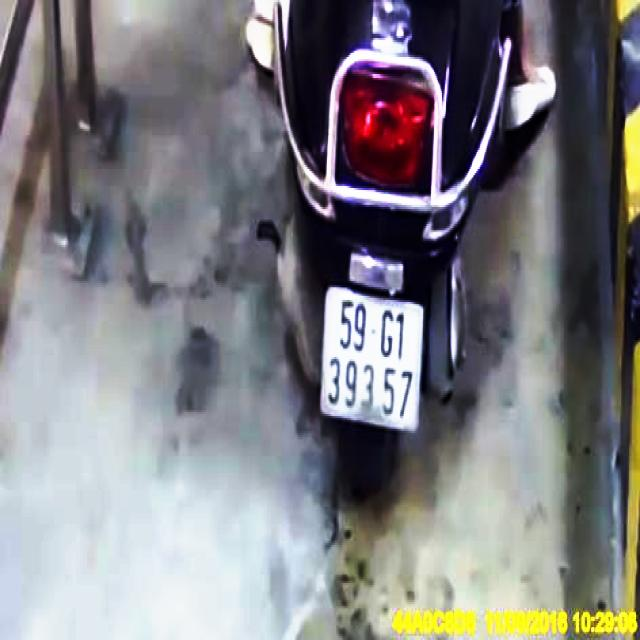license_plate: (324, 286, 427, 433)
